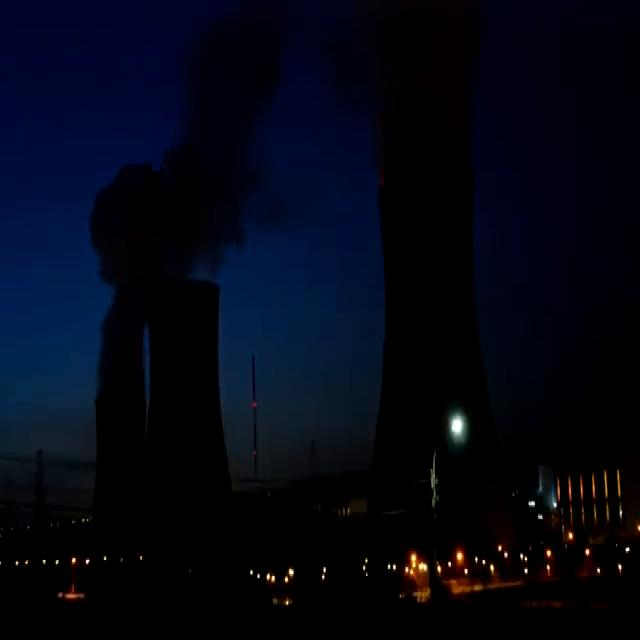smoke: (89, 18, 267, 404), (365, 0, 477, 188)
